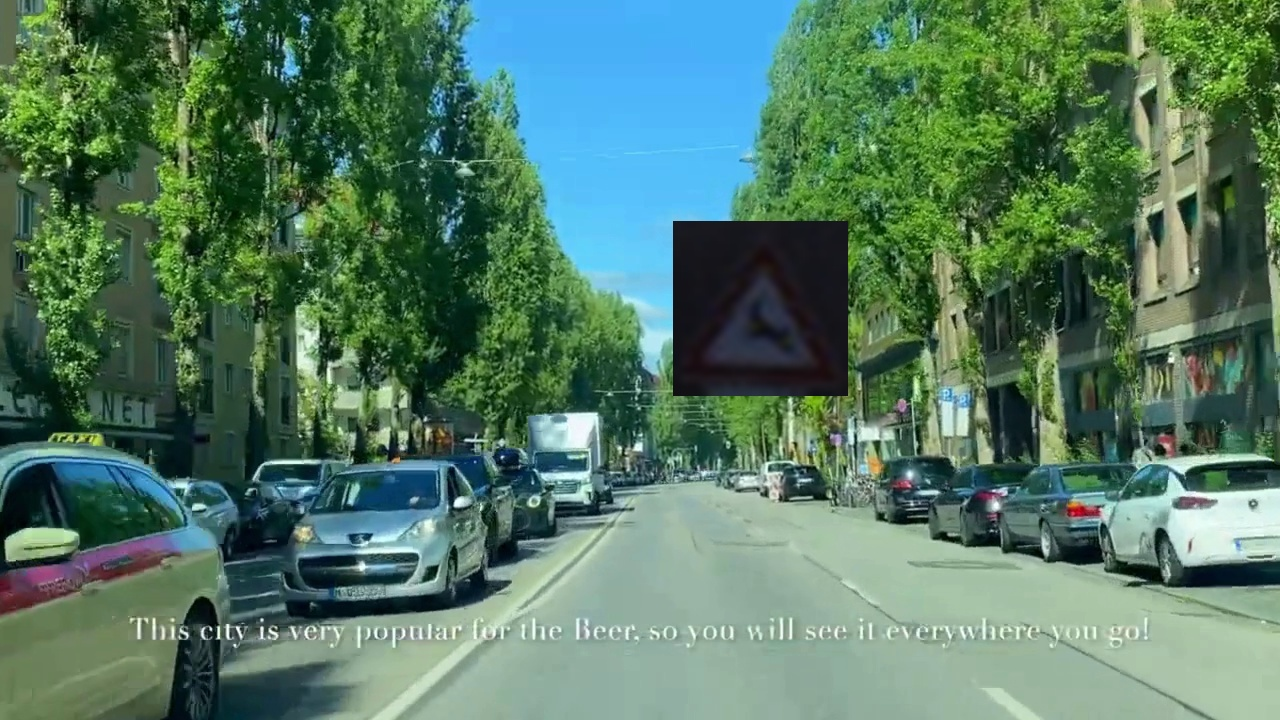Wild animals: (673, 221, 848, 396)
